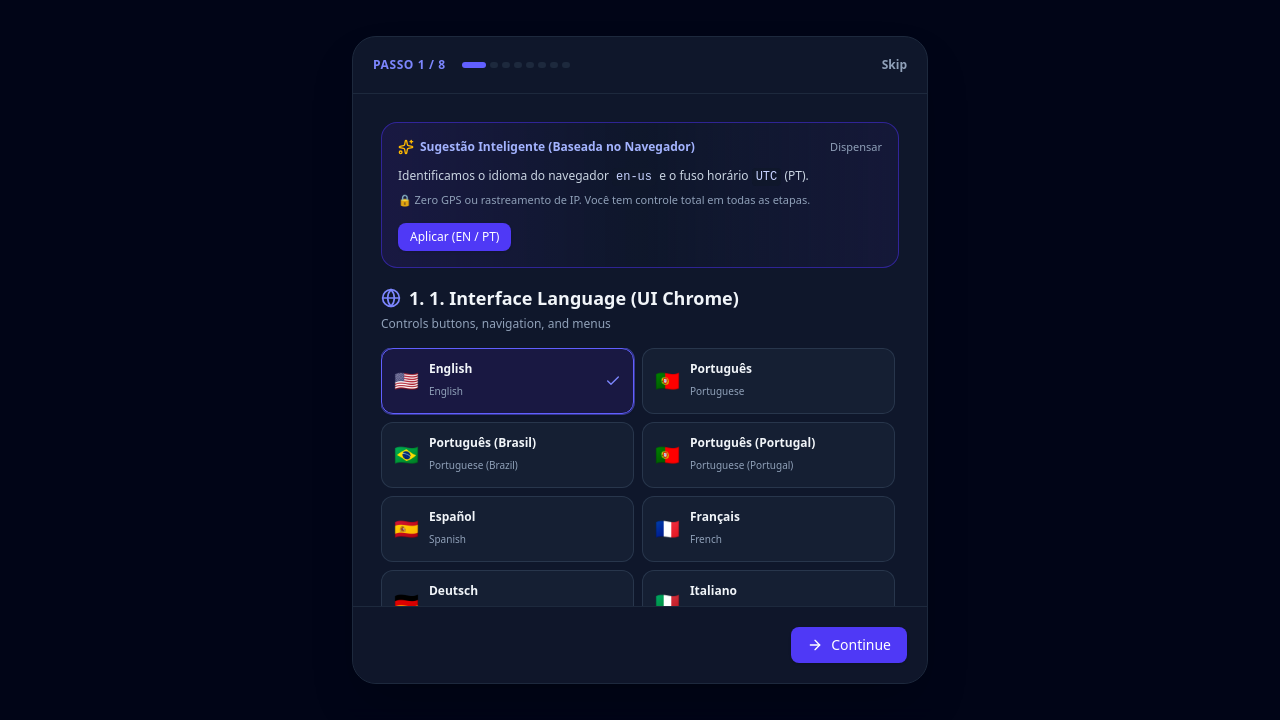
Scenario: Lexilume World — Real-World Learning & Smart API Layer › 1. Smart Non-Intrusive Onboarding Service › displays the smart suggestion banner in GuidedOnboardingModal and allows 100% manual overrides
Expected: the text "Sugestão Inteligente (Baseada no Navegador)" is shown, [398,139,695,155]
Expected: the text "Zero GPS ou rastreamento de IP" is shown, [398,192,810,207]
// Verify manual override buttons are present and interactive
Click the text "Português" at point(721, 369), box [690,361,752,377]
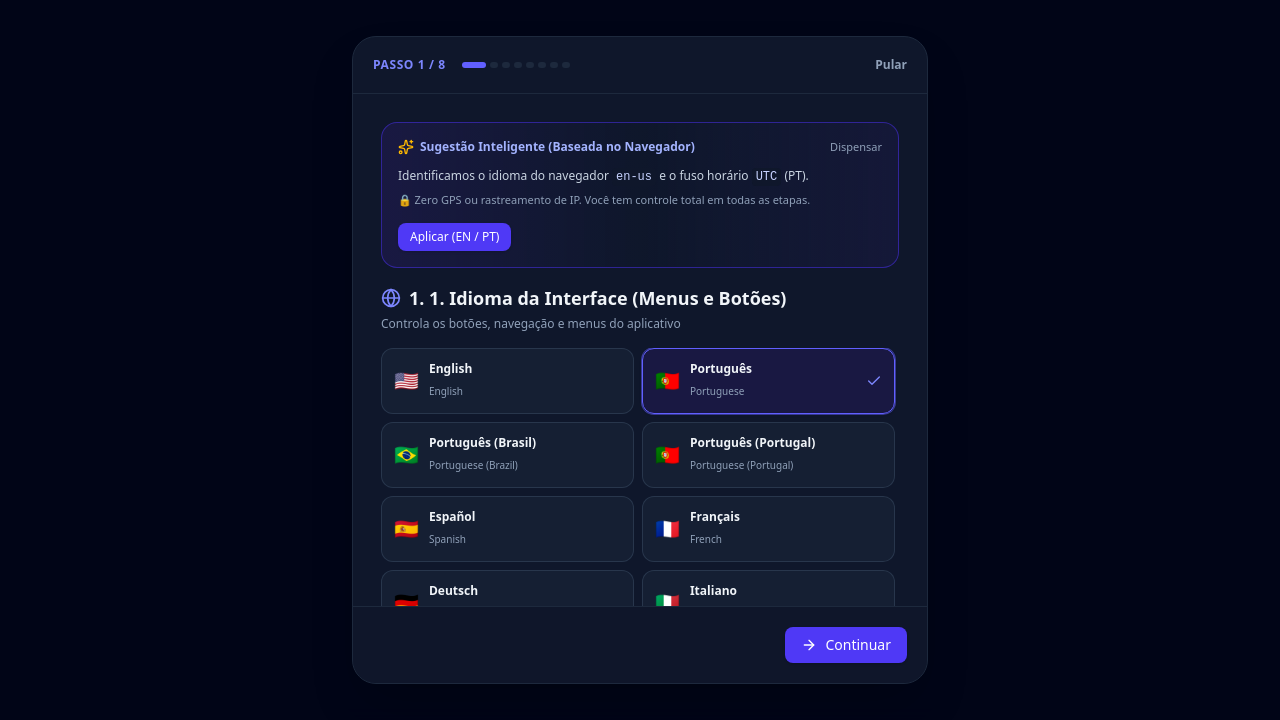
// Verify dismiss button works
Click the button "Dispensar" at point(856, 147), box [830,139,882,156]
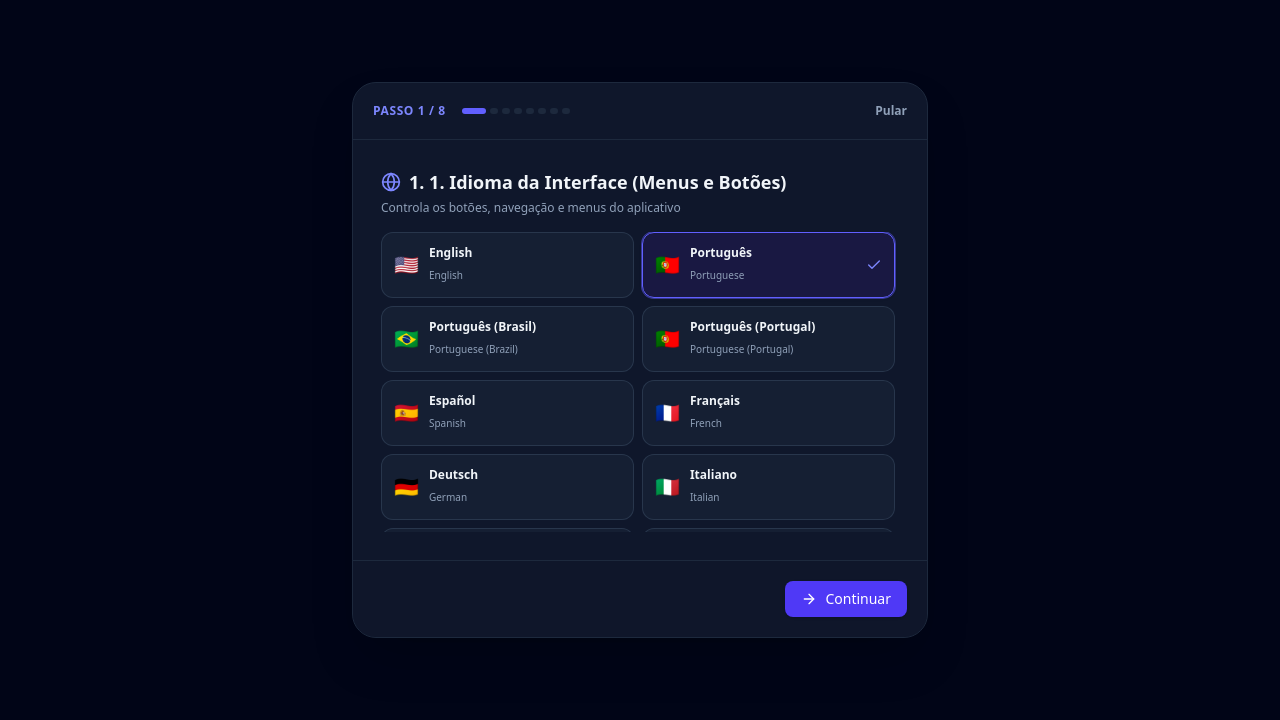
Result: the text "Sugestão Inteligente (Baseada no Navegador)" is gone
